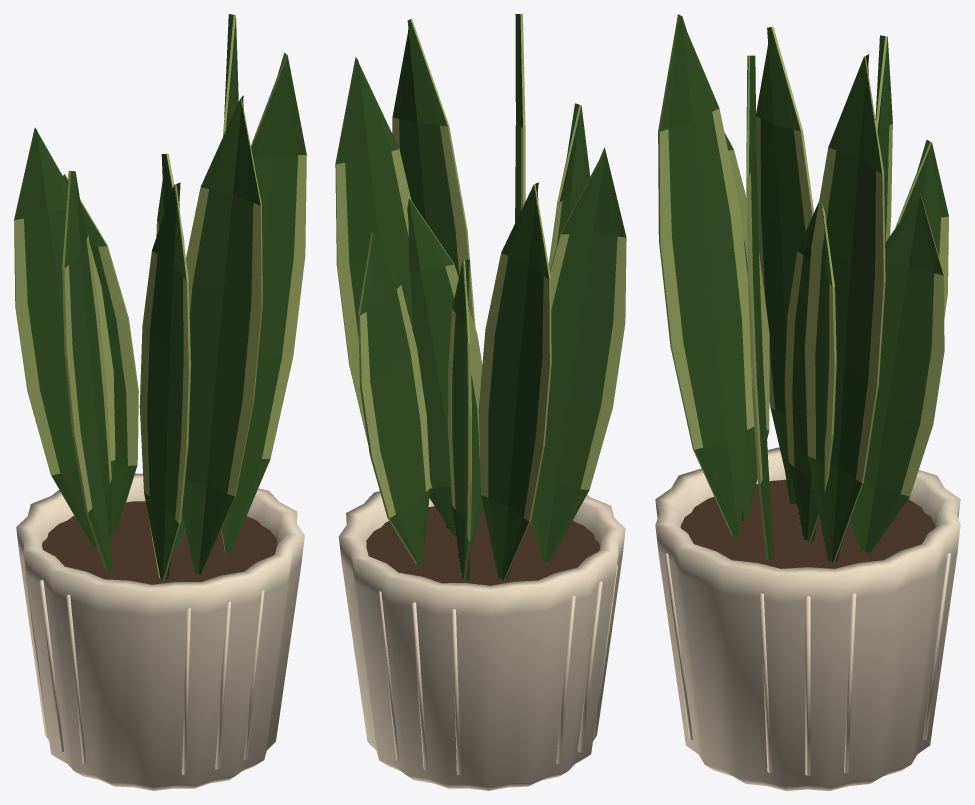
The model's file is snakePlant.glb.
The picture shows the model from 3 angles, left to right: view 1: azimuth 30°, elevation 25°; view 2: azimuth 150°, elevation 25°; view 3: azimuth 270°, elevation 25°; orthographic projection. The views are drawn at different scales.
Parts seen in each view (by area): view 1: snakePlant_pot, snakePlant_sword_leaf_2, snakePlant_sword_leaf_5, snakePlant_sword_leaf_1, snakePlant_sword_leaf_7, snakePlant_sword_leaf_4, snakePlant_soil, snakePlant_sword_leaf_6, snakePlant_sword_leaf_8, snakePlant_pot_rib_15, snakePlant_pot_rib_10, snakePlant_pot_rib_14 (+3 smaller); view 2: snakePlant_pot, snakePlant_sword_leaf_4, snakePlant_sword_leaf_1, snakePlant_sword_leaf_3, snakePlant_sword_leaf_8, snakePlant_sword_leaf_0, snakePlant_sword_leaf_5, snakePlant_soil, snakePlant_sword_leaf_6, snakePlant_sword_leaf_7, snakePlant_sword_leaf_2, snakePlant_pot_rib_5 (+4 smaller); view 3: snakePlant_pot, snakePlant_sword_leaf_2, snakePlant_sword_leaf_8, snakePlant_sword_leaf_3, snakePlant_sword_leaf_4, snakePlant_soil, snakePlant_sword_leaf_0, snakePlant_sword_leaf_5, snakePlant_sword_leaf_6, snakePlant_sword_leaf_7, snakePlant_sword_leaf_1, snakePlant_pot_rib_0 (+4 smaller).
Part boxes in pixels (x1,y1,x2,y2): snakePlant_pot: (16, 473, 304, 790); snakePlant_sword_leaf_2: (182, 95, 262, 575); snakePlant_sword_leaf_5: (221, 52, 306, 552); snakePlant_sword_leaf_1: (14, 127, 115, 546); snakePlant_sword_leaf_7: (139, 182, 190, 580); snakePlant_sword_leaf_4: (62, 170, 113, 570); snakePlant_soil: (42, 501, 277, 584); snakePlant_sword_leaf_6: (63, 174, 138, 532); snakePlant_sword_leaf_8: (223, 14, 238, 136); snakePlant_pot_rib_15: (215, 601, 231, 769); snakePlant_pot_rib_10: (39, 579, 63, 751); snakePlant_pot_rib_14: (182, 608, 190, 774); snakePlant_pot: (338, 491, 625, 790); snakePlant_sword_leaf_4: (531, 147, 626, 562); snakePlant_sword_leaf_1: (478, 182, 551, 580); snakePlant_sword_leaf_3: (358, 232, 430, 564); snakePlant_sword_leaf_8: (335, 57, 412, 444); snakePlant_sword_leaf_0: (407, 199, 482, 548); snakePlant_sword_leaf_5: (392, 18, 475, 528); snakePlant_soil: (366, 506, 599, 585); snakePlant_sword_leaf_6: (448, 259, 471, 581); snakePlant_sword_leaf_7: (534, 103, 590, 535); snakePlant_sword_leaf_2: (515, 14, 525, 222); snakePlant_pot_rib_5: (412, 602, 427, 769); snakePlant_pot: (655, 447, 960, 790); snakePlant_sword_leaf_2: (658, 14, 754, 537); snakePlant_sword_leaf_8: (804, 54, 885, 563); snakePlant_sword_leaf_3: (850, 190, 944, 553); snakePlant_sword_leaf_4: (756, 26, 813, 504); snakePlant_soil: (680, 479, 935, 568); snakePlant_sword_leaf_0: (784, 198, 836, 543); snakePlant_sword_leaf_5: (746, 55, 774, 559); snakePlant_sword_leaf_6: (895, 139, 948, 318); snakePlant_sword_leaf_7: (724, 132, 769, 520); snakePlant_sword_leaf_1: (875, 35, 892, 242); snakePlant_pot_rib_0: (805, 595, 810, 775).
Bounding box in the file's own units: 0.4524 × 1.21 × 0.4524.
